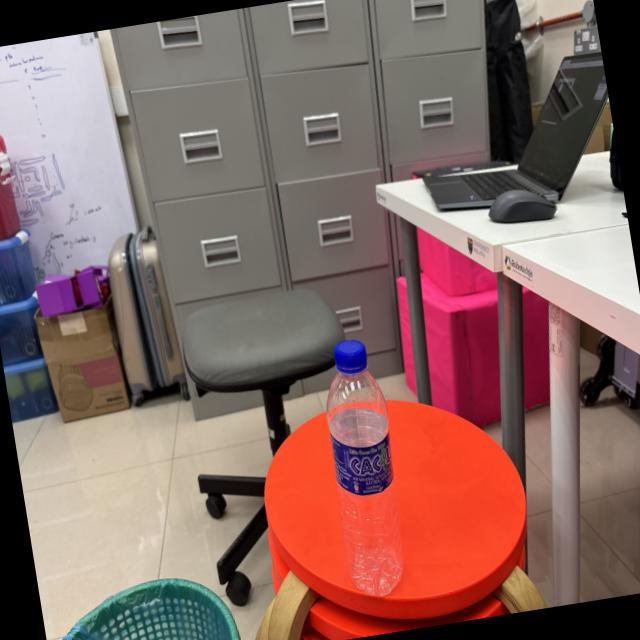plastic_bottle: (308, 325, 424, 611)
